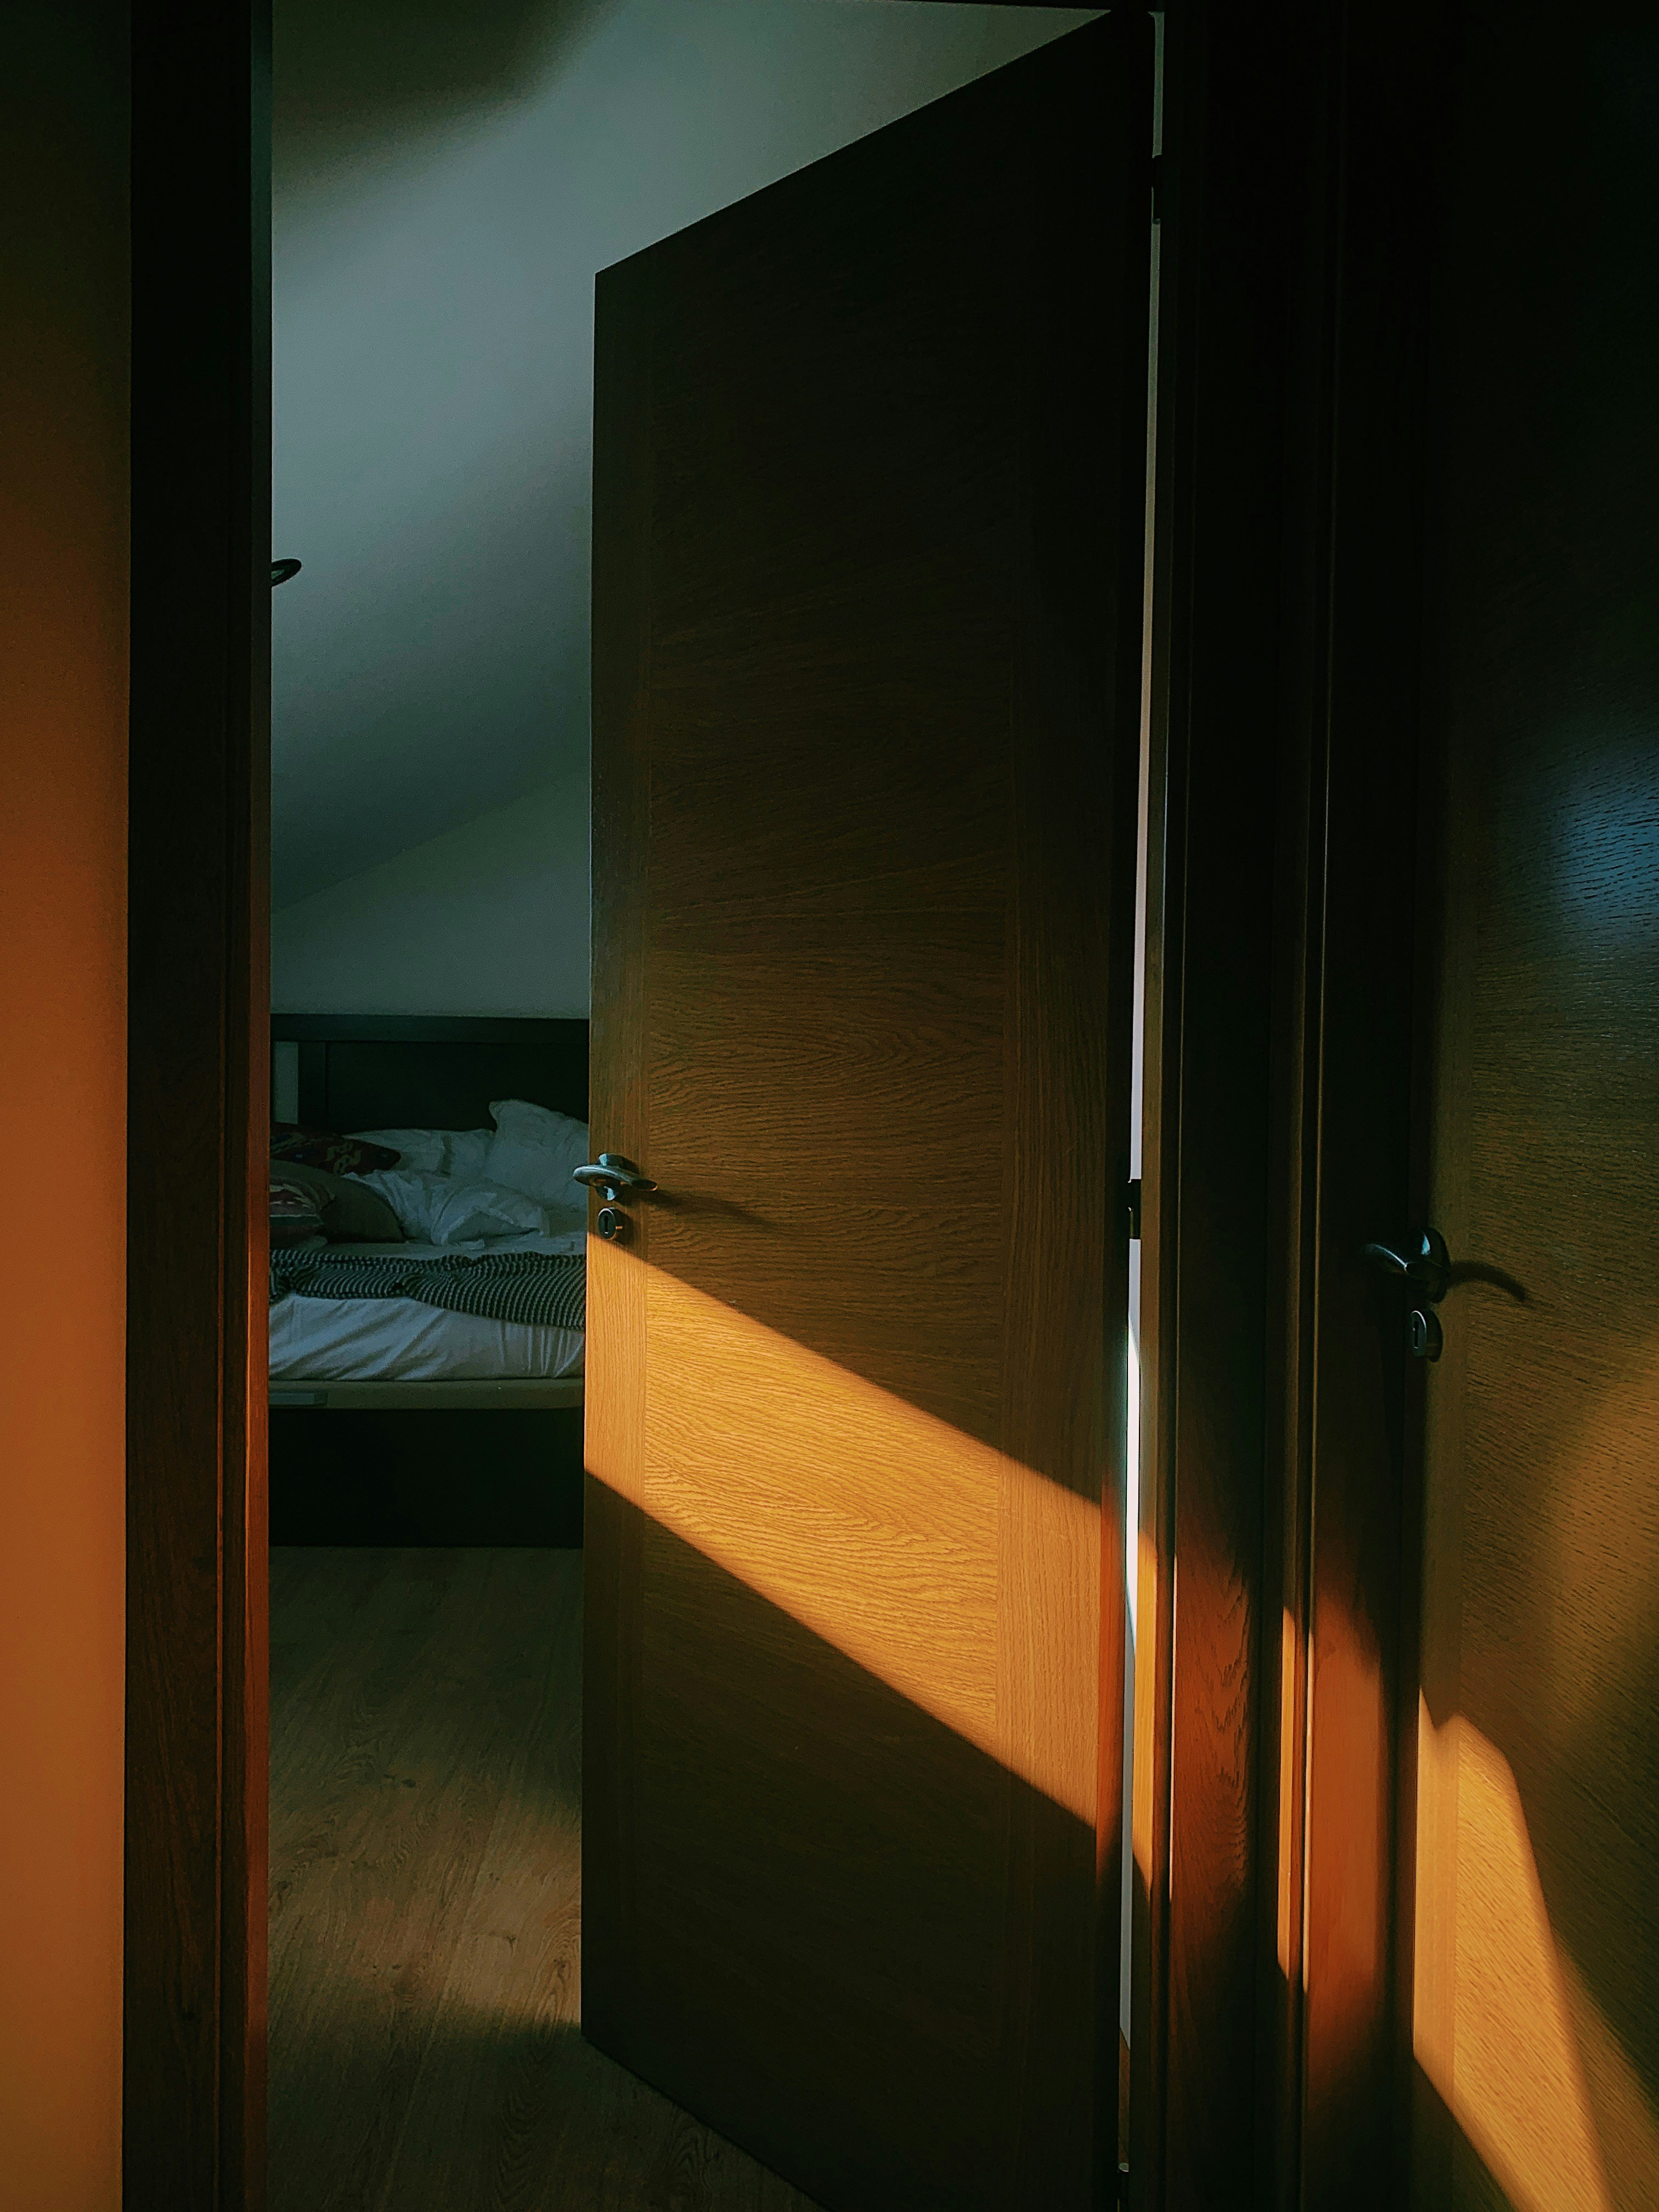door: (60, 25, 1289, 2202), (1353, 7, 1658, 2212)
